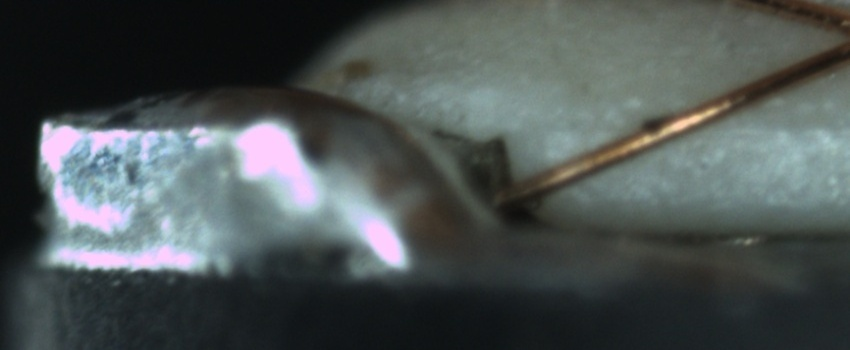DL: (558, 92, 843, 156)
